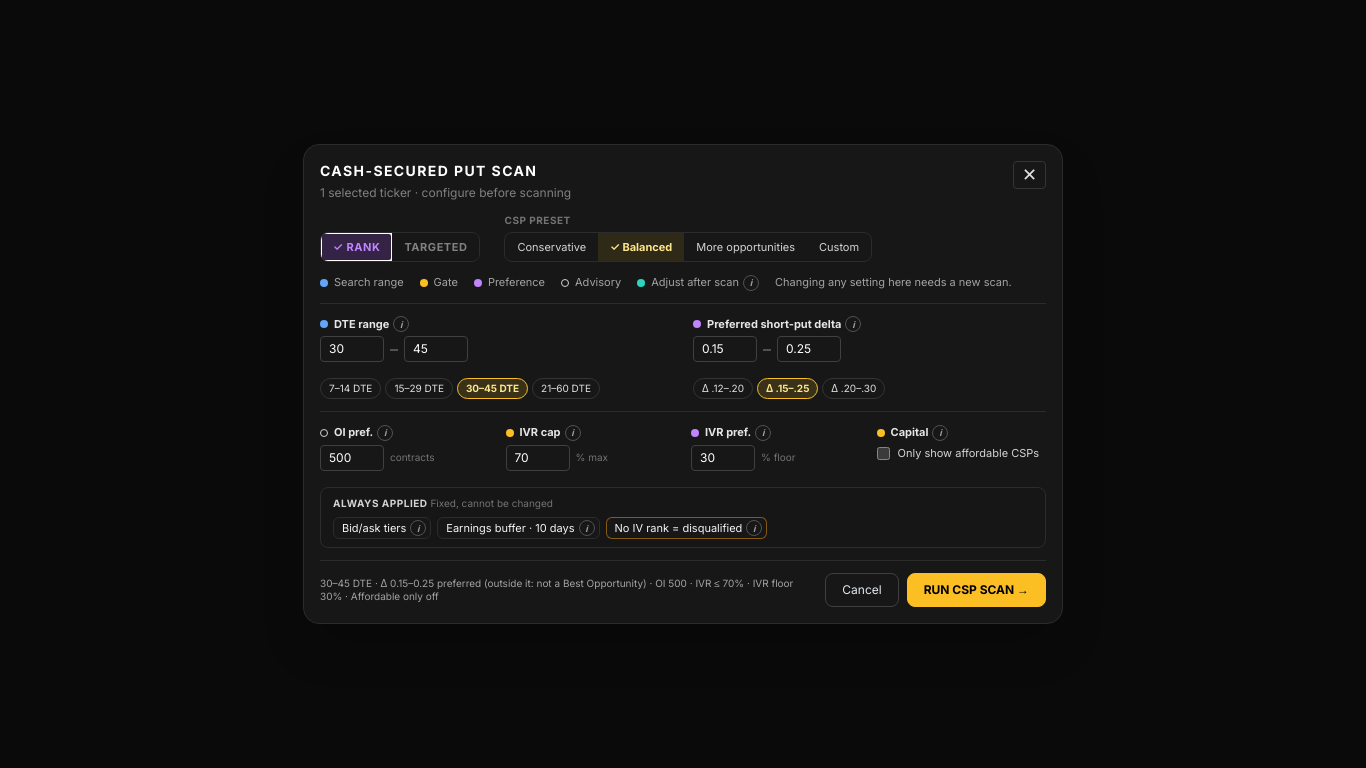
CSP-WORKFLOW-0001 CSP configuration modal › does not allow Targeted confirmation until POP, OTM, or ROC actually narrows the scan
Click the radio button labelled "TARGETED" at (436, 247), box [392,233,480,261]
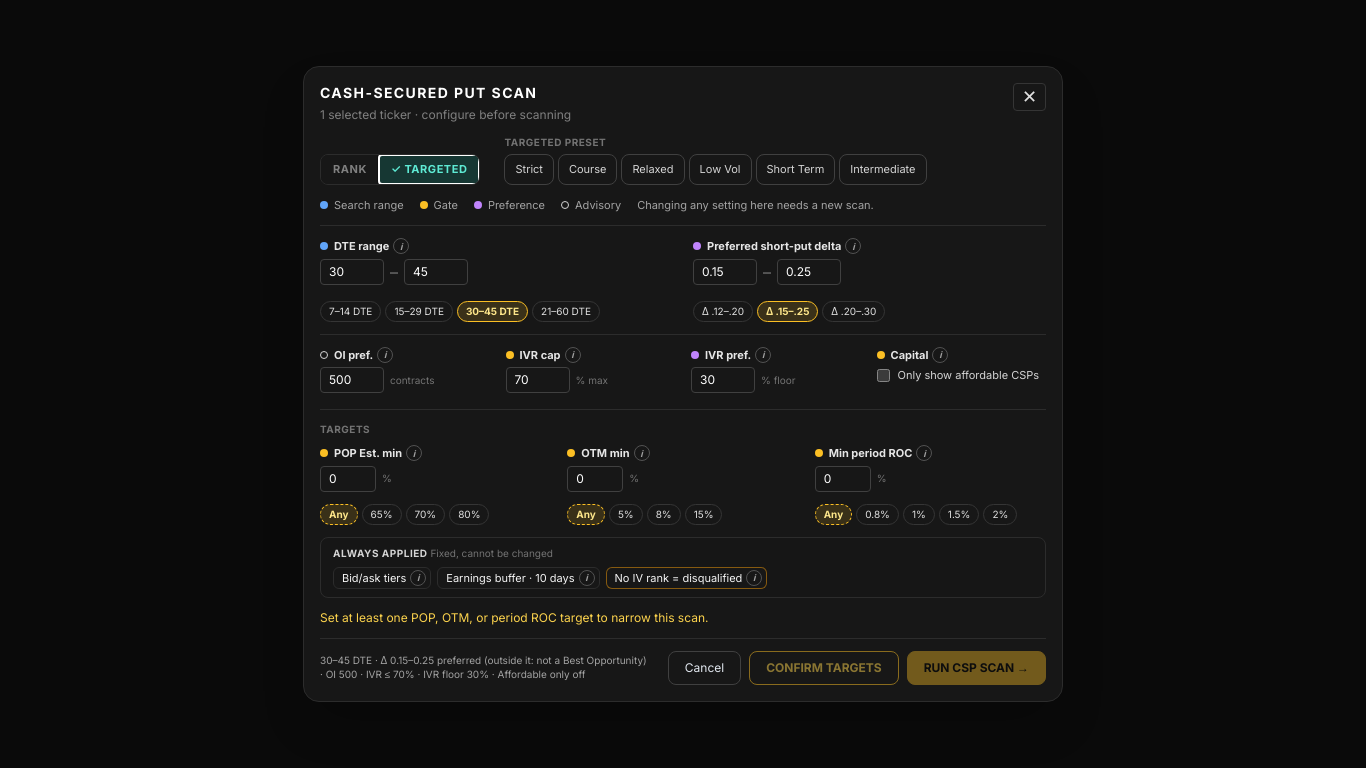
Expected: the text "Set at least one POP, OTM, or period ROC target to narrow this scan." is shown, [320,610,708,625]
Expected: the button "CONFIRM TARGETS" is disabled, [749,651,899,685]
Type "5" into the field named "Minimum OTM percentage" at (595, 478), box [567,466,623,492]
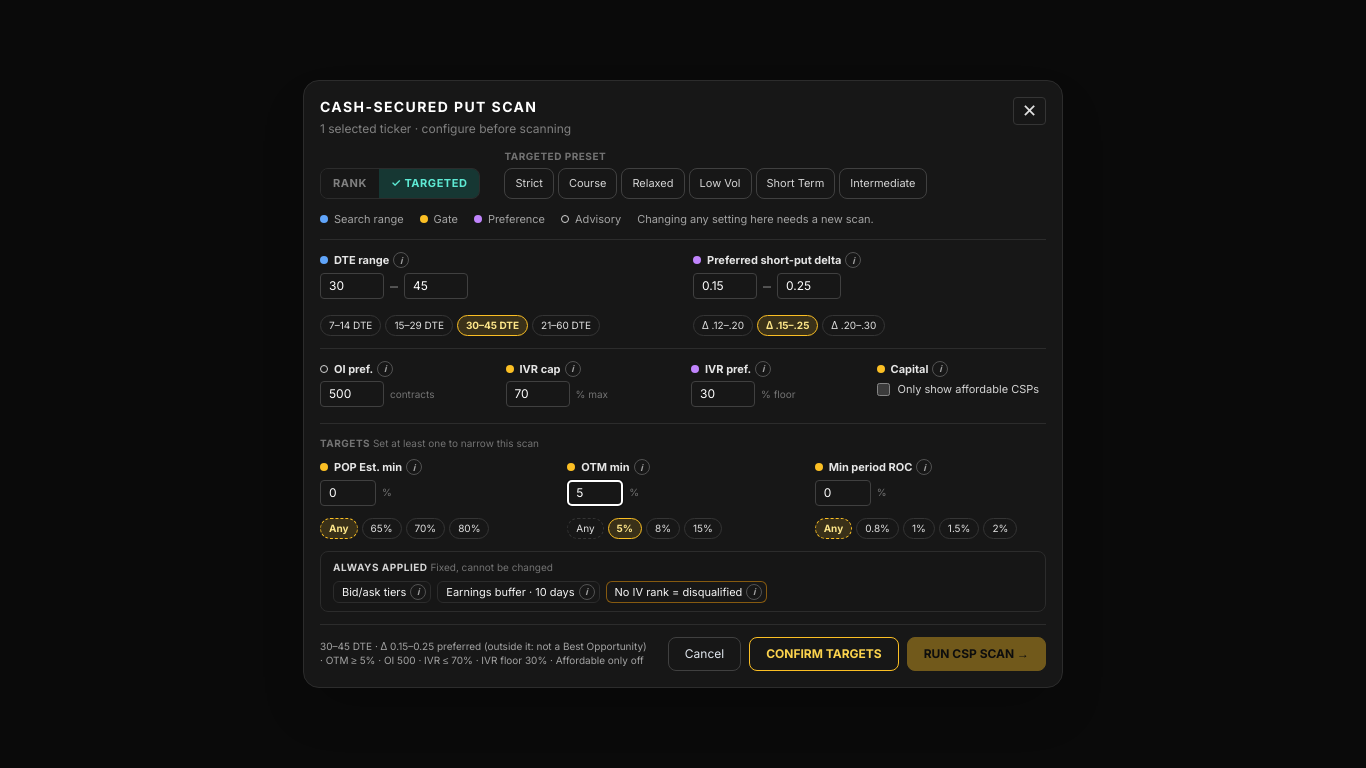
Expected: the button "CONFIRM TARGETS" is enabled, [749,637,899,671]
